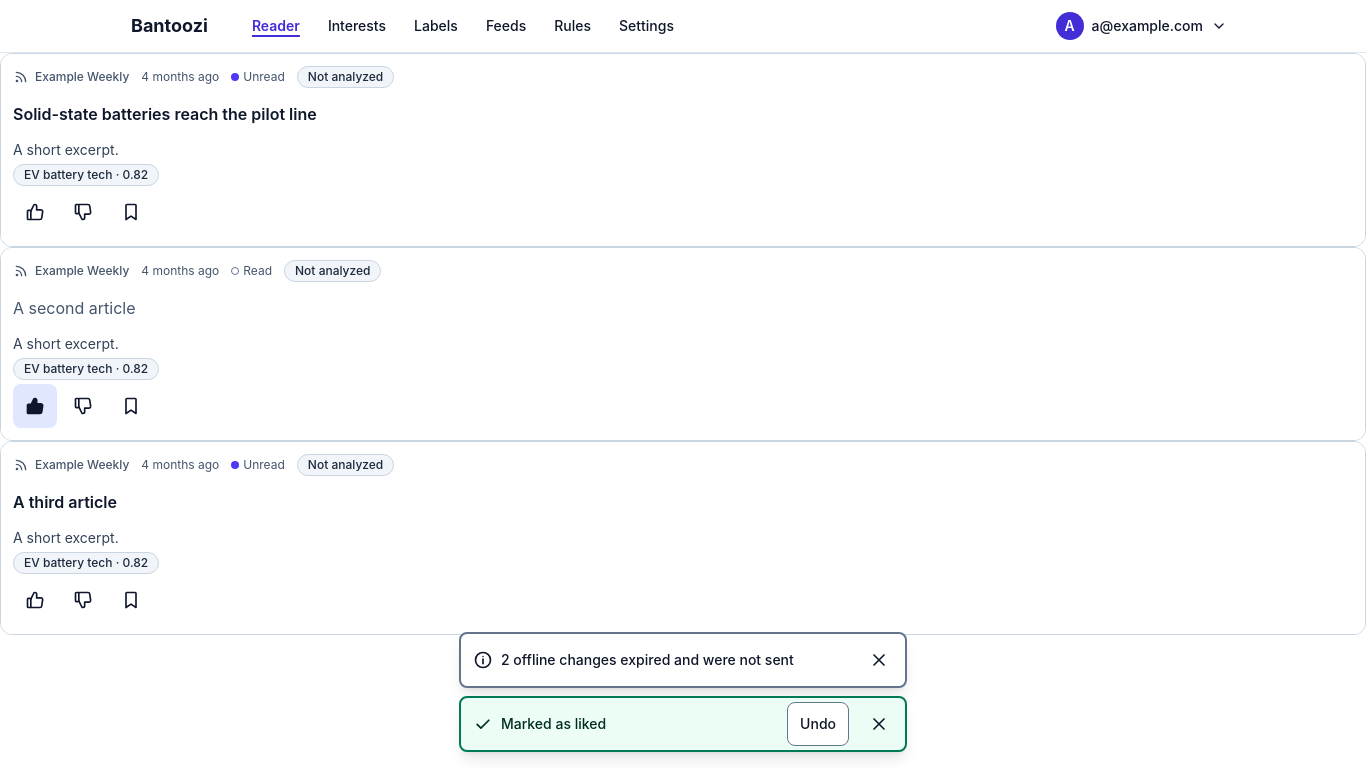
Test: 5. a change that is 24 hours old › is not sent from a day to the millisecond on, is rolled back and announced once; one a millisecond younger is sent
Expected: the element named "Solid-state batteries reach the pilot line" is shown, [0,53,1365,247]
Expected: the text "2 offline changes expired and were not sent" is shown once, [501,651,794,668]
Click the 1st button named "Dismiss" at (879, 660), box [857,638,901,682]
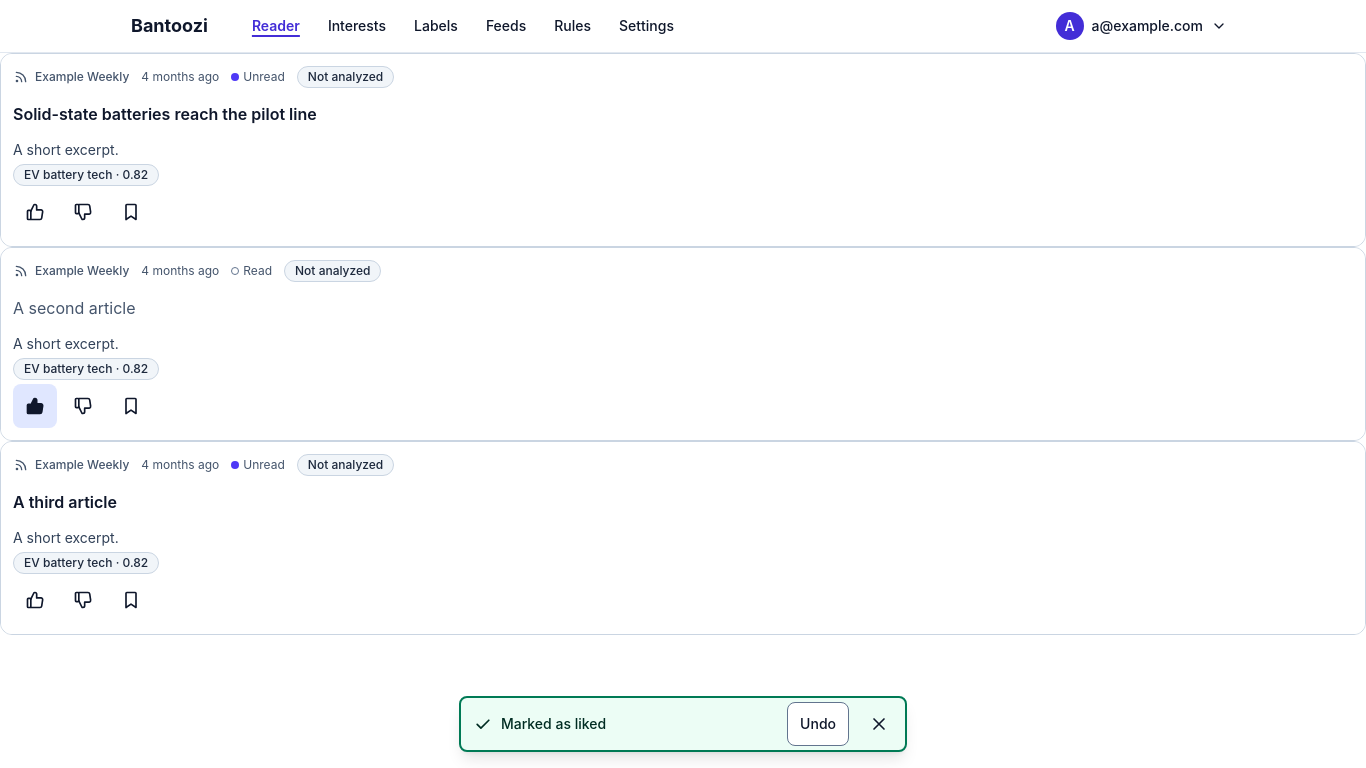
Expected: the text "offline change" is gone
